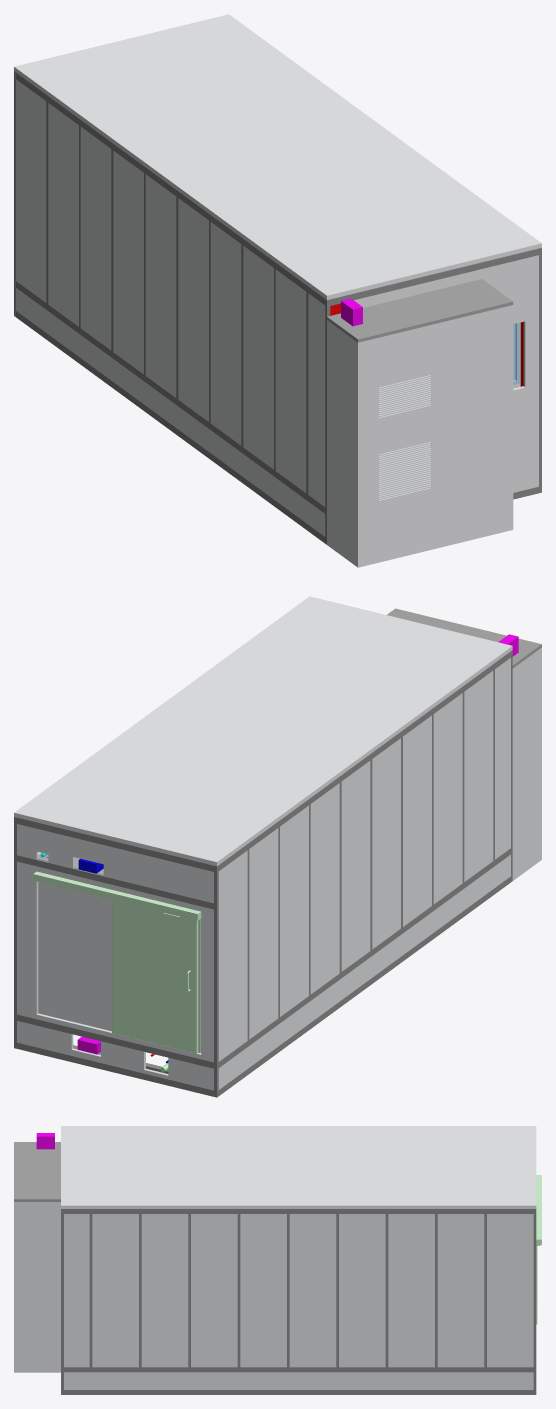
The model's file is 음압병실 모듈.glb.
3 views of the same model, one above another, from view 1: azimuth 30°, elevation 25°; view 2: azimuth 150°, elevation 25°; view 3: azimuth 270°, elevation 25° (orthographic). The views are drawn at different scales.
Bounding box in the file's own units: 0.17 × 0.1884 × 0.4762.
